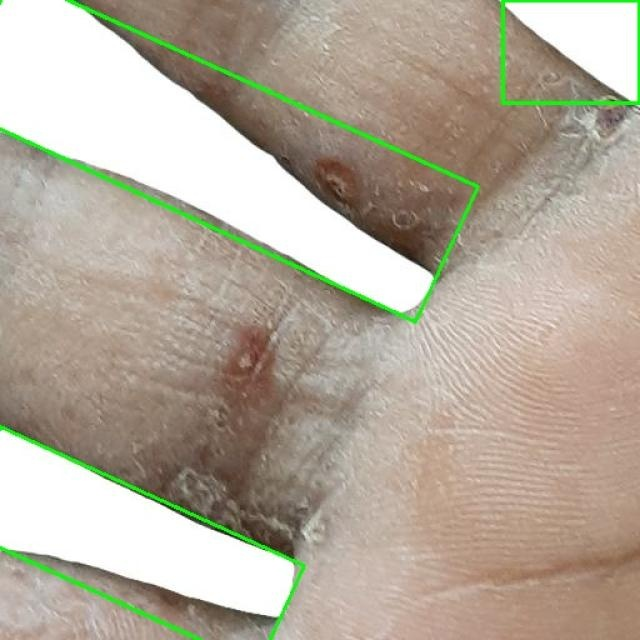Scabies: (0, 0, 484, 322), (0, 427, 307, 640), (502, 0, 639, 104)
